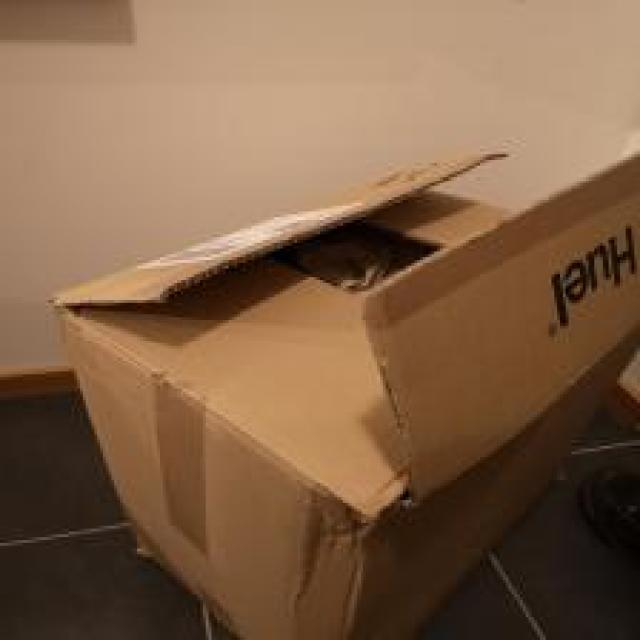box: (89, 113, 559, 529)
